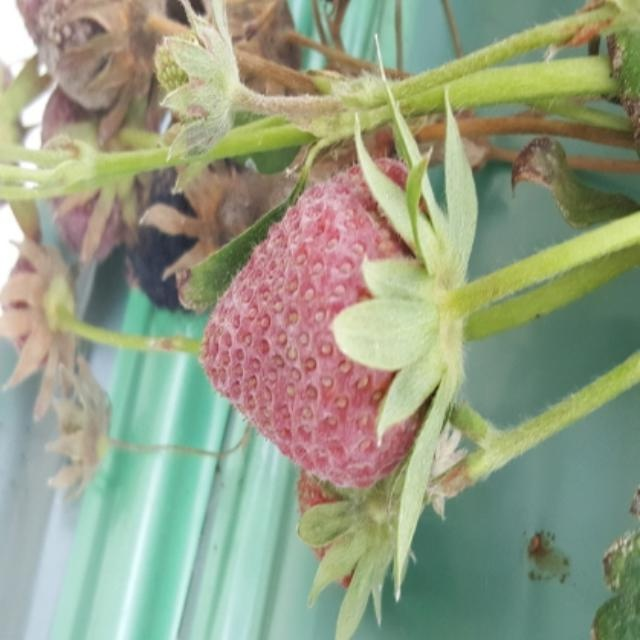Powdery Mildew Fruit: (196, 155, 463, 492)
